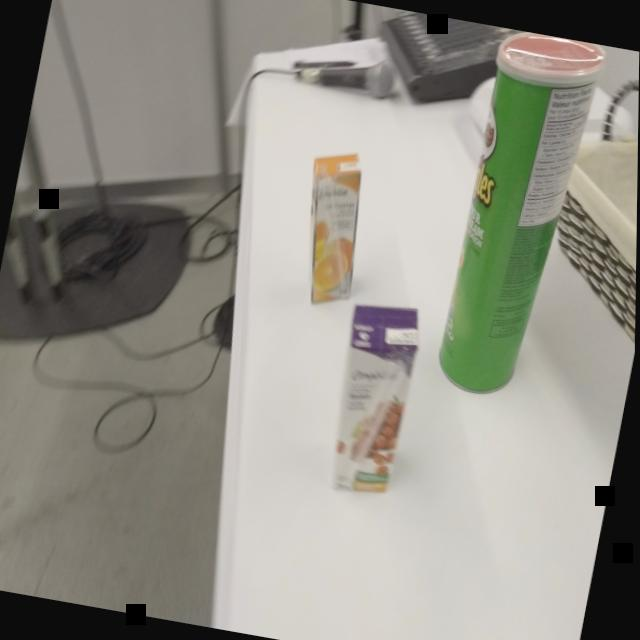grape_juice: (311, 290, 436, 506)
orange_juice: (282, 141, 382, 319)
pringles: (426, 26, 612, 413)
